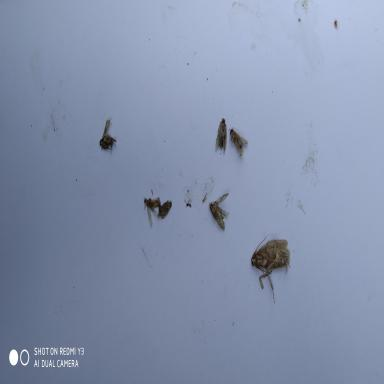pbw: (251, 236, 290, 303), (209, 194, 229, 231), (228, 127, 248, 156), (215, 116, 227, 152), (158, 200, 172, 220)
